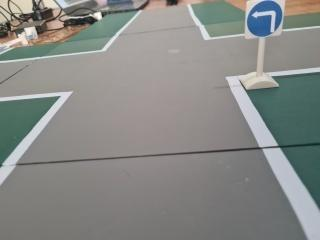left: (241, 0, 289, 43)
